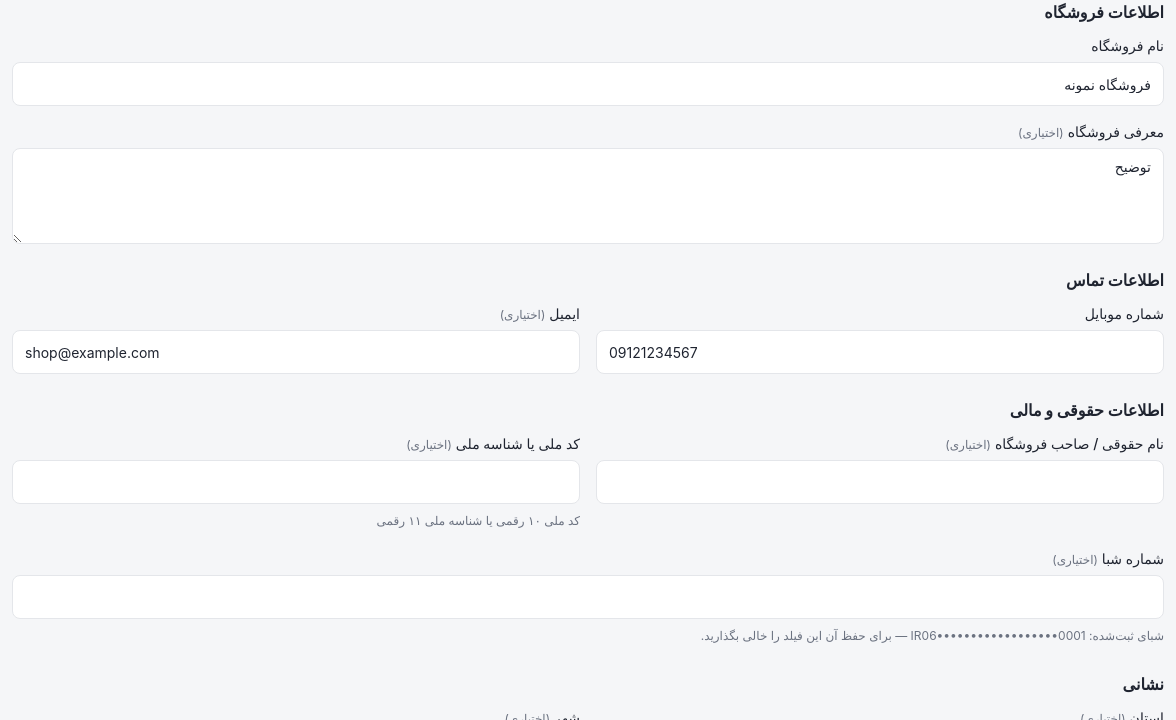
Scenario: SellerApplicationForm › patches the profile in edit mode, clearing blanks but keeping the stored IBAN
Expected: the field labelled "نام فروشگاه" holds "فروشگاه نمونه", x1=12 y1=62 x2=1164 y2=106
Clear the text box labelled "معرفی فروشگاه(اختیاری)" at (588, 196), box x1=12 y1=148 x2=1164 y2=244
(page scrolled)
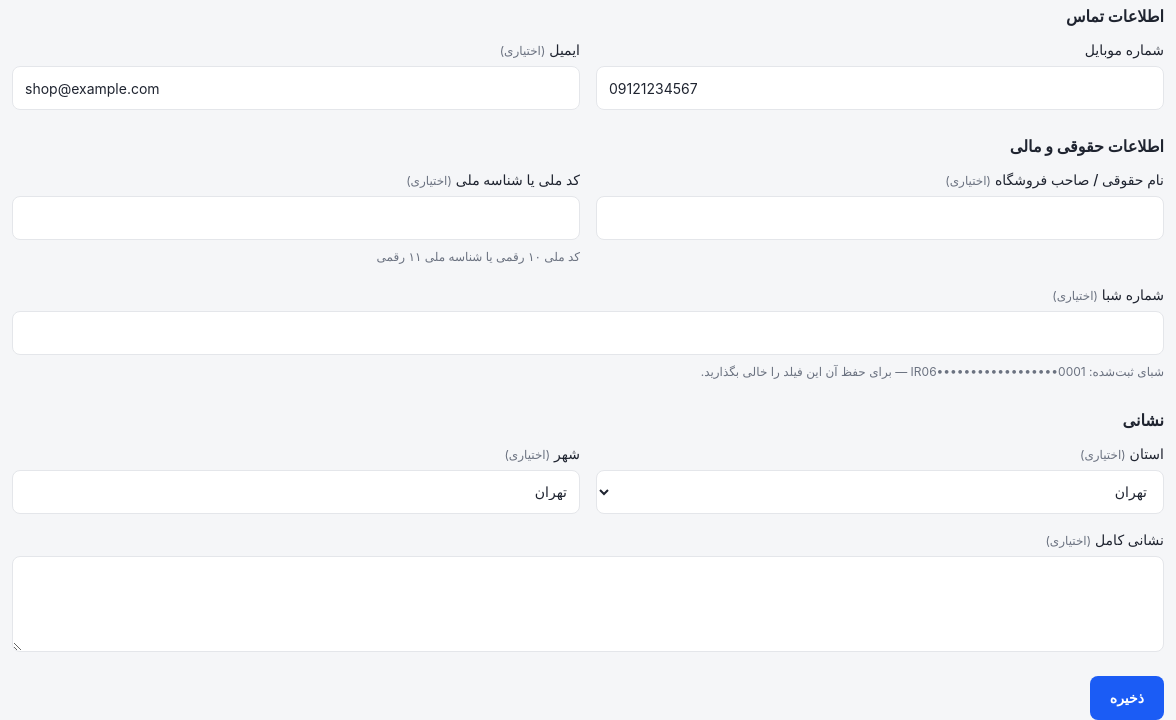
Click the button "ذخیره".
click(1127, 698)  # box x1=1090 y1=676 x2=1164 y2=719
(page scrolled)
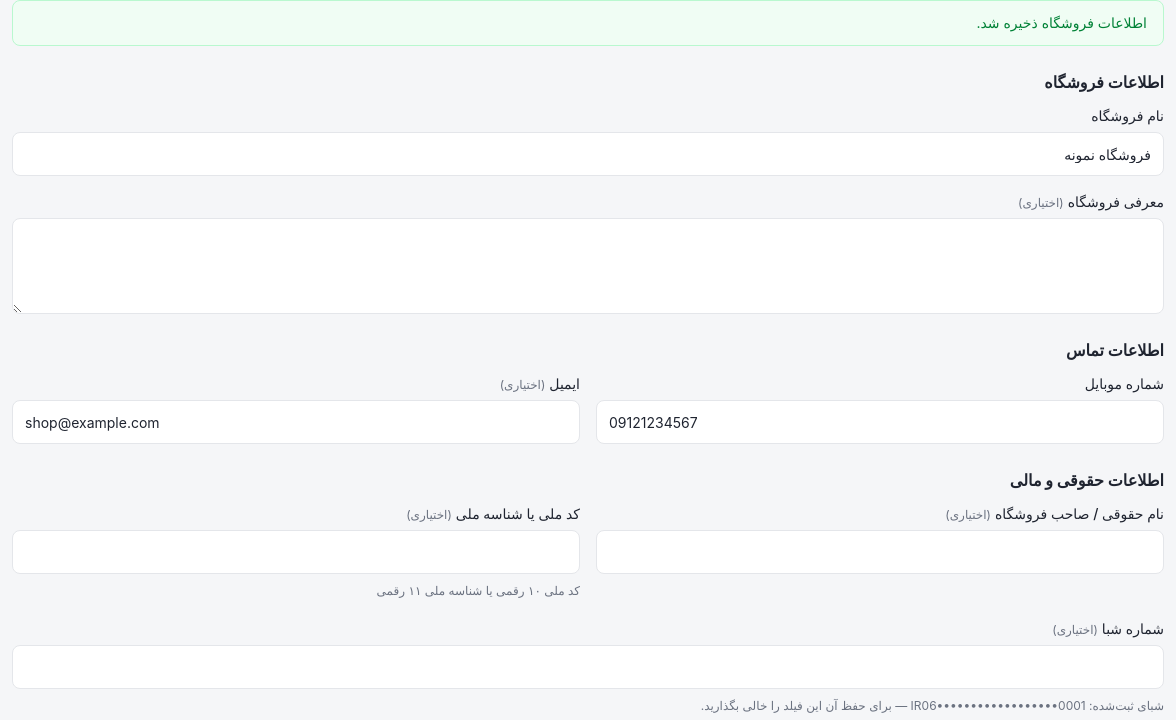
Now the text "اطلاعات فروشگاه ذخیره شد." is shown, box x1=12 y1=0 x2=1164 y2=46
